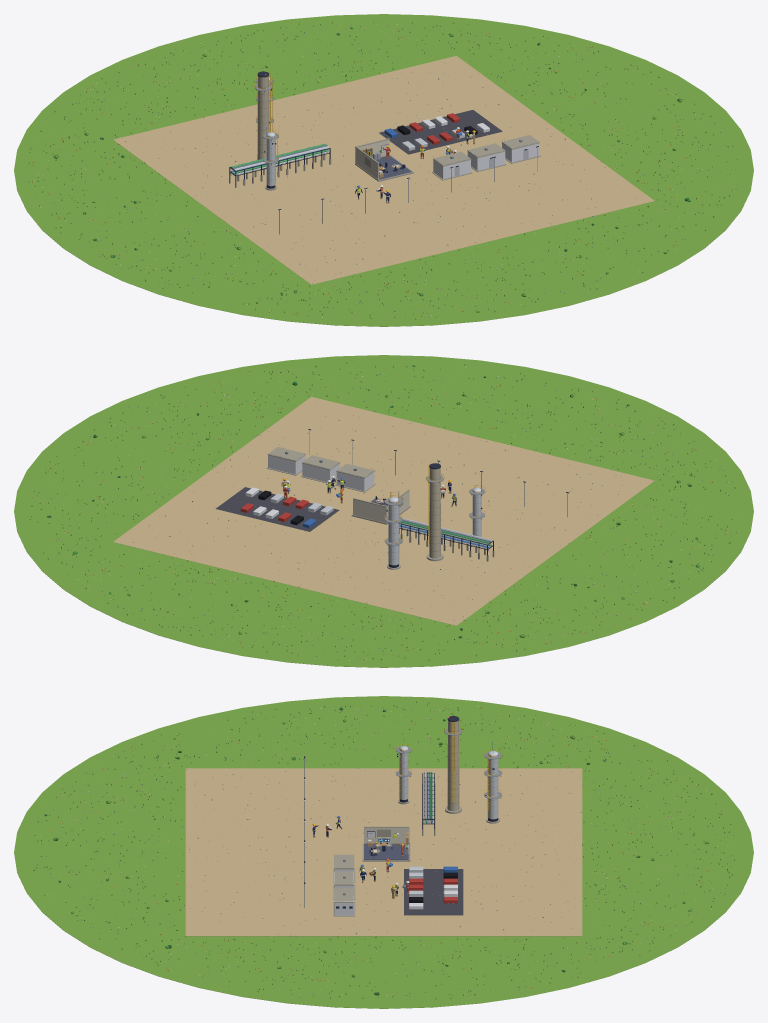
File: office.glb
3 views of the same model, one above another, from view 1: azimuth 30°, elevation 25°; view 2: azimuth 150°, elevation 25°; view 3: azimuth 270°, elevation 25° (orthographic).
Visible parts, largest first — view 1: office_fieldGreen, office_gravel, office_asphalt, office_tube, office_casingShade, office_stackTan, office_fieldDark, office_jacket, office_steelDark, office_officeWall, office_treeLight; view 2: office_fieldGreen, office_gravel, office_asphalt, office_tube, office_jacket, office_casingShade, office_stackTan, office_fieldDark, office_officeWall, office_galvanized, office_steelDark, office_treeLight; view 3: office_fieldGreen, office_gravel, office_asphalt, office_jacket, office_casingShade, office_stackTan, office_tube, office_fieldDark, office_safetyYellow, office_galvanized, office_carpet, office_treeLight.
Boxes of the visible parts, box(x1,y1,x2,y2) form: office_fieldGreen: box(14, 14, 753, 326); office_gravel: box(113, 56, 654, 284); office_asphalt: box(379, 110, 502, 154); office_tube: box(34, 25, 701, 316); office_casingShade: box(355, 135, 539, 168); office_stackTan: box(257, 76, 268, 159); office_fieldDark: box(29, 24, 717, 317); office_jacket: box(230, 77, 329, 186); office_steelDark: box(229, 71, 538, 210); office_officeWall: box(355, 139, 389, 179); office_treeLight: box(39, 24, 733, 319); office_fieldGreen: box(14, 355, 753, 667); office_gravel: box(113, 397, 654, 625); office_asphalt: box(215, 487, 339, 531); office_tube: box(42, 365, 727, 646); office_jacket: box(388, 487, 492, 565); office_casingShade: box(267, 447, 409, 507); office_stackTan: box(429, 468, 440, 558); office_fieldDark: box(31, 366, 729, 658); office_officeWall: box(353, 491, 409, 522); office_galvanized: box(285, 430, 567, 545); office_steelDark: box(308, 429, 569, 567); office_treeLight: box(41, 365, 717, 660); office_fieldGreen: box(14, 696, 753, 1008); office_gravel: box(185, 768, 582, 936); office_asphalt: box(404, 869, 463, 915); office_jacket: box(399, 746, 498, 823); office_casingShade: box(334, 826, 409, 902); office_stackTan: box(447, 720, 459, 811); office_tube: box(51, 706, 727, 994); office_fieldDark: box(34, 708, 733, 998); office_safetyYellow: box(312, 722, 502, 887); office_galvanized: box(304, 728, 502, 907); office_carpet: box(364, 844, 408, 859); office_treeLight: box(41, 706, 732, 999).
Size of the model in its own units: 149 by 20.89 by 149.
